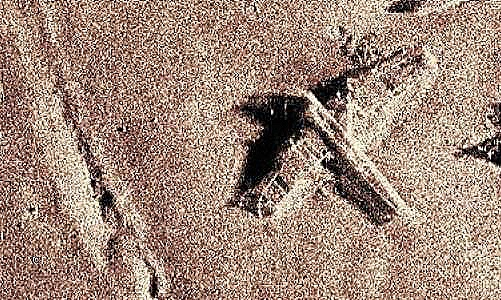aircraft: (236, 47, 440, 225)
